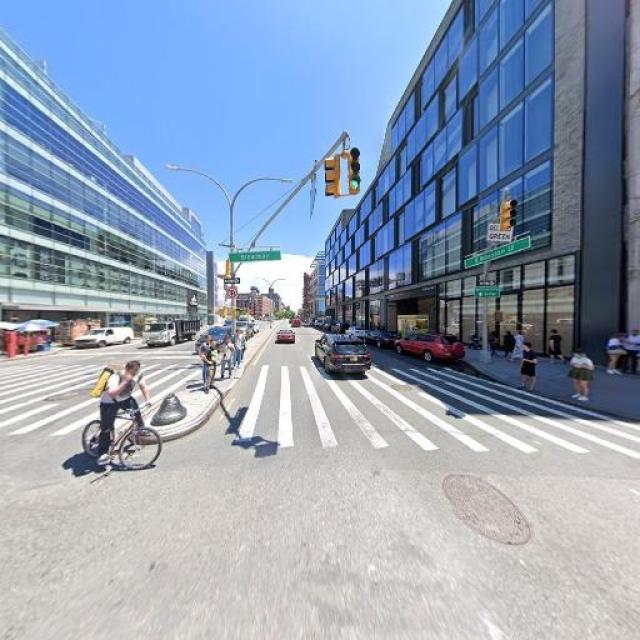Building: (327, 1, 640, 363), (1, 30, 218, 344)
